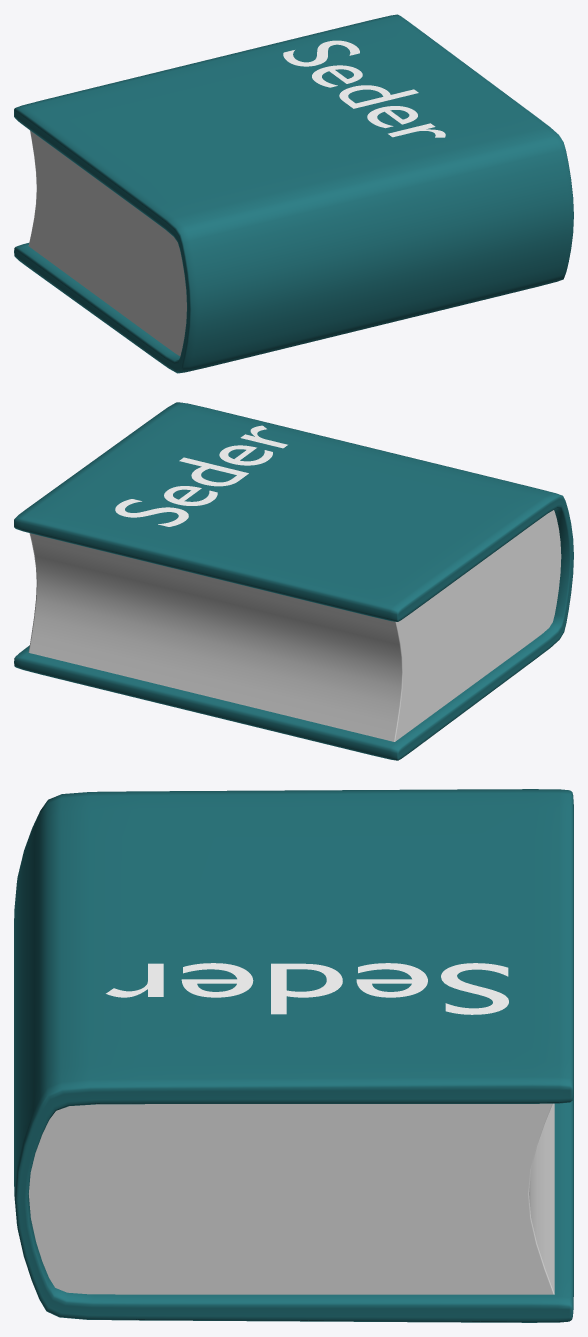
The model's file is LibroCELESTE.fbx.
The picture shows the model from 3 angles, top to bottom: view 1: azimuth 30°, elevation 25°; view 2: azimuth 150°, elevation 25°; view 3: azimuth 270°, elevation 25°; orthographic projection. The views are drawn at different scales.
Parts seen in each view (by area): view 1: Libro.002; view 2: Libro.002; view 3: Libro.002.
Part boxes in pixels (x1,y1,x2,y2): Libro.002: (14,14,573,373); Libro.002: (14,402,573,760); Libro.002: (14,789,573,1322).
Size of the model in its own units: 50 by 20 by 40.
